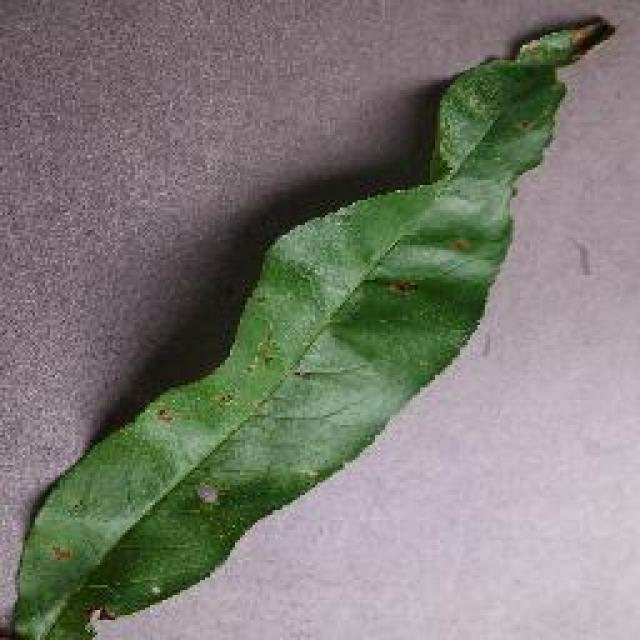Peach_Bacterial_Spot: (230, 145, 495, 377)
